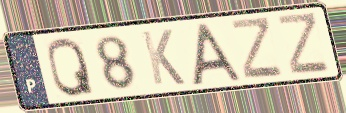8: (92, 34, 140, 92)
A: (189, 20, 245, 88)
K: (138, 27, 188, 88)
Q: (45, 35, 97, 100)
Z: (275, 10, 332, 76), (229, 15, 286, 80)
